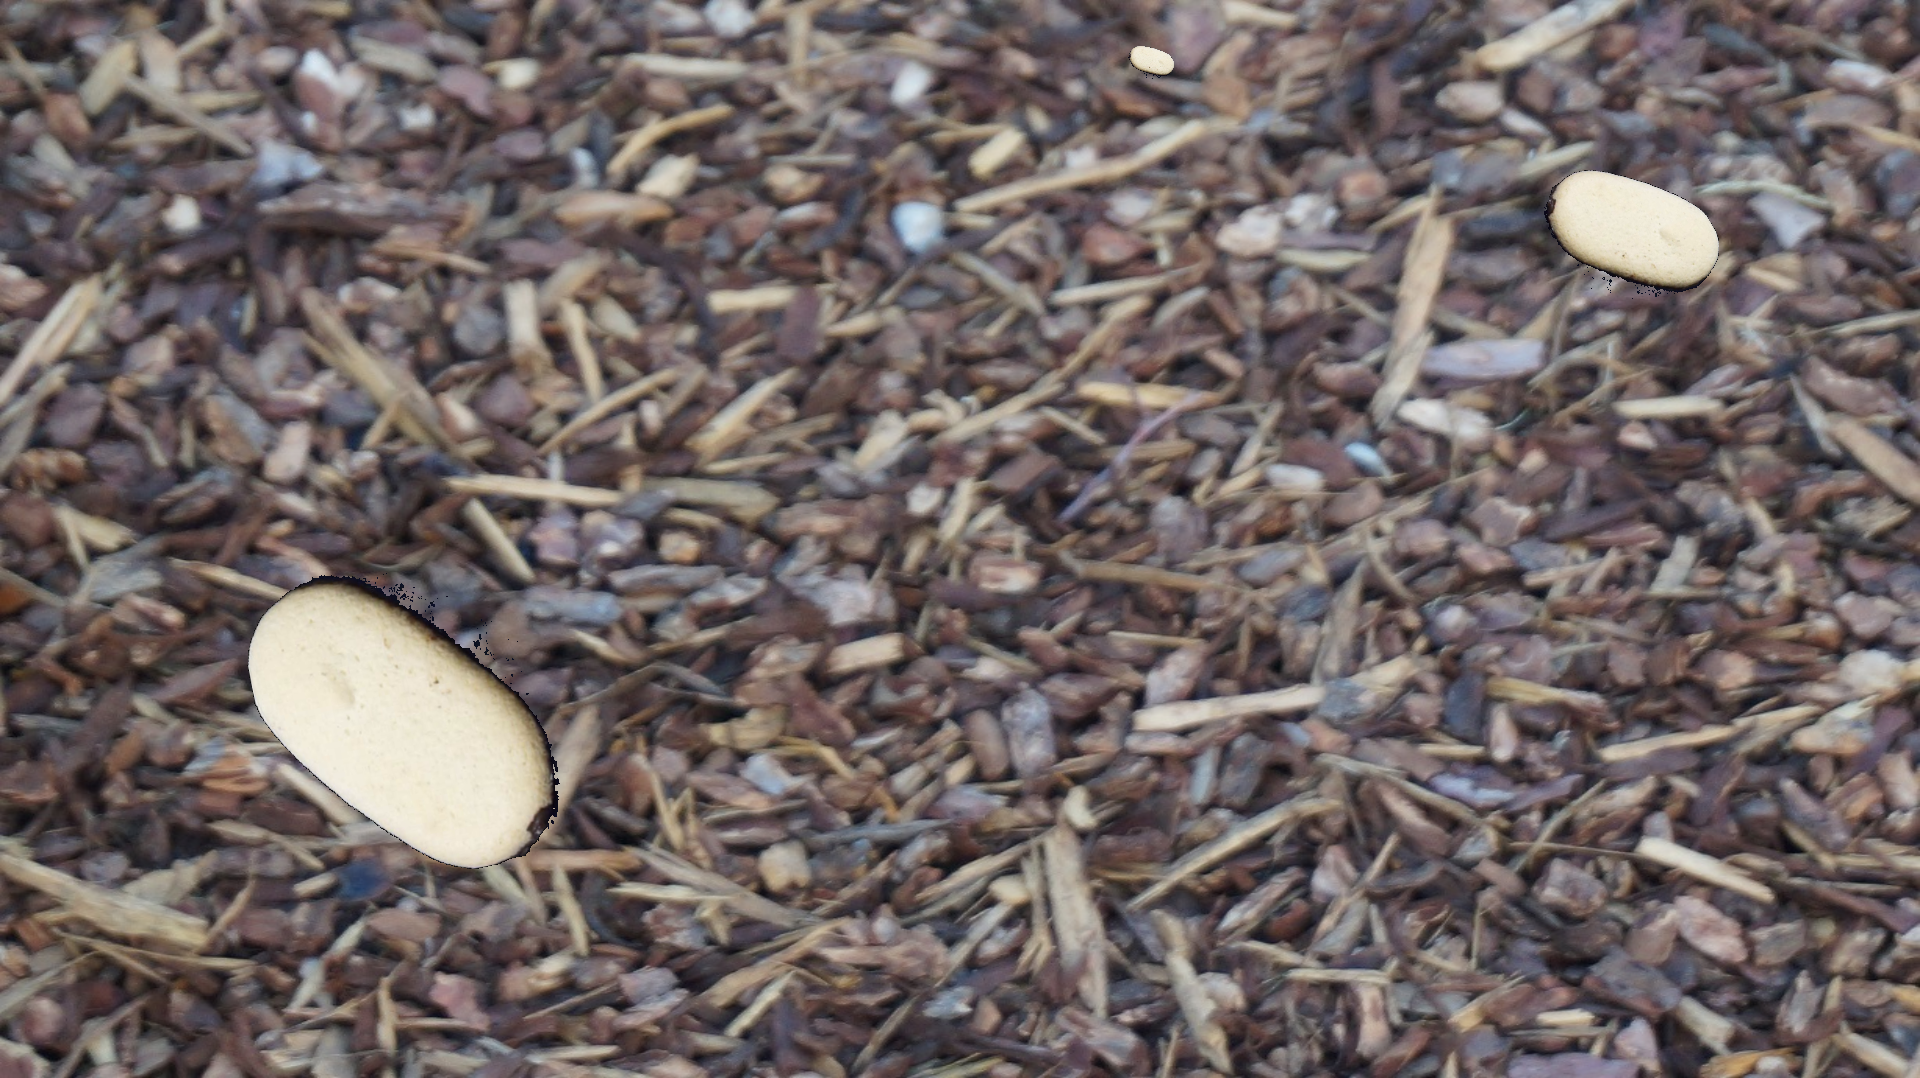test: (233, 533, 593, 903), (1520, 125, 1735, 343), (1122, 33, 1178, 90)
